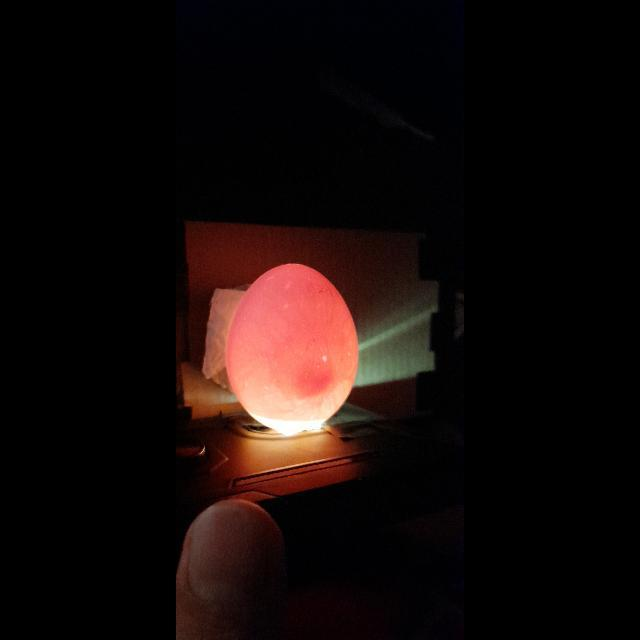Fertile: (224, 261, 360, 437)
